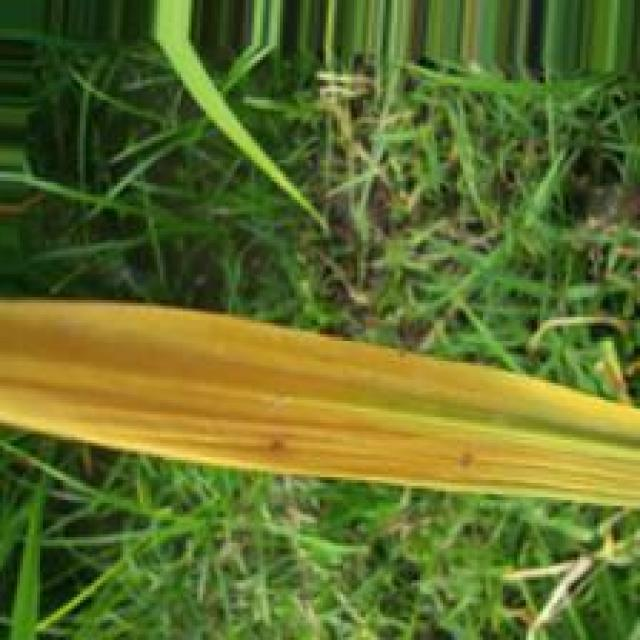Bacterial_Leaf_Blight: (0, 300, 640, 500)
